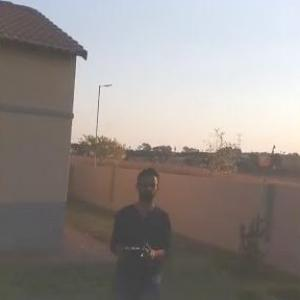follow: (105, 162, 176, 299)
